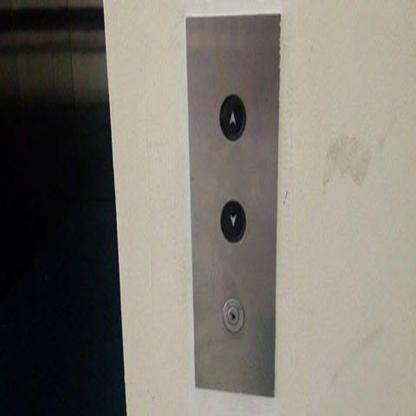down: (219, 200, 246, 244)
keyhole: (221, 296, 244, 334)
up: (218, 92, 246, 141)
